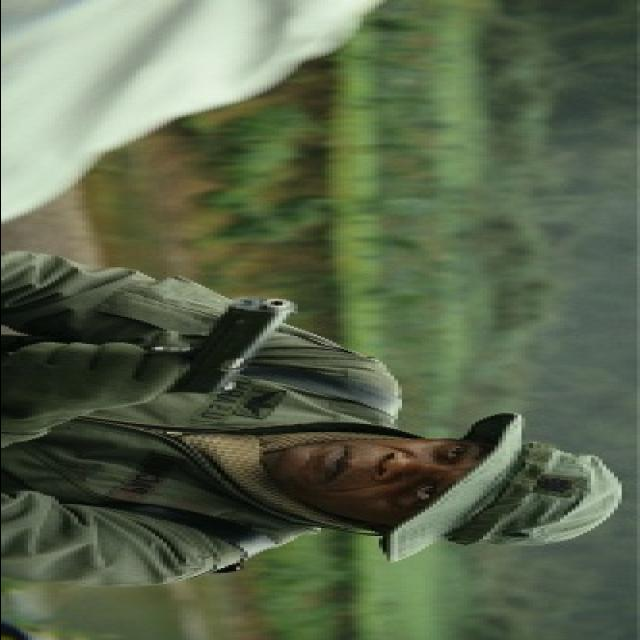weapons: (32, 286, 316, 402)
